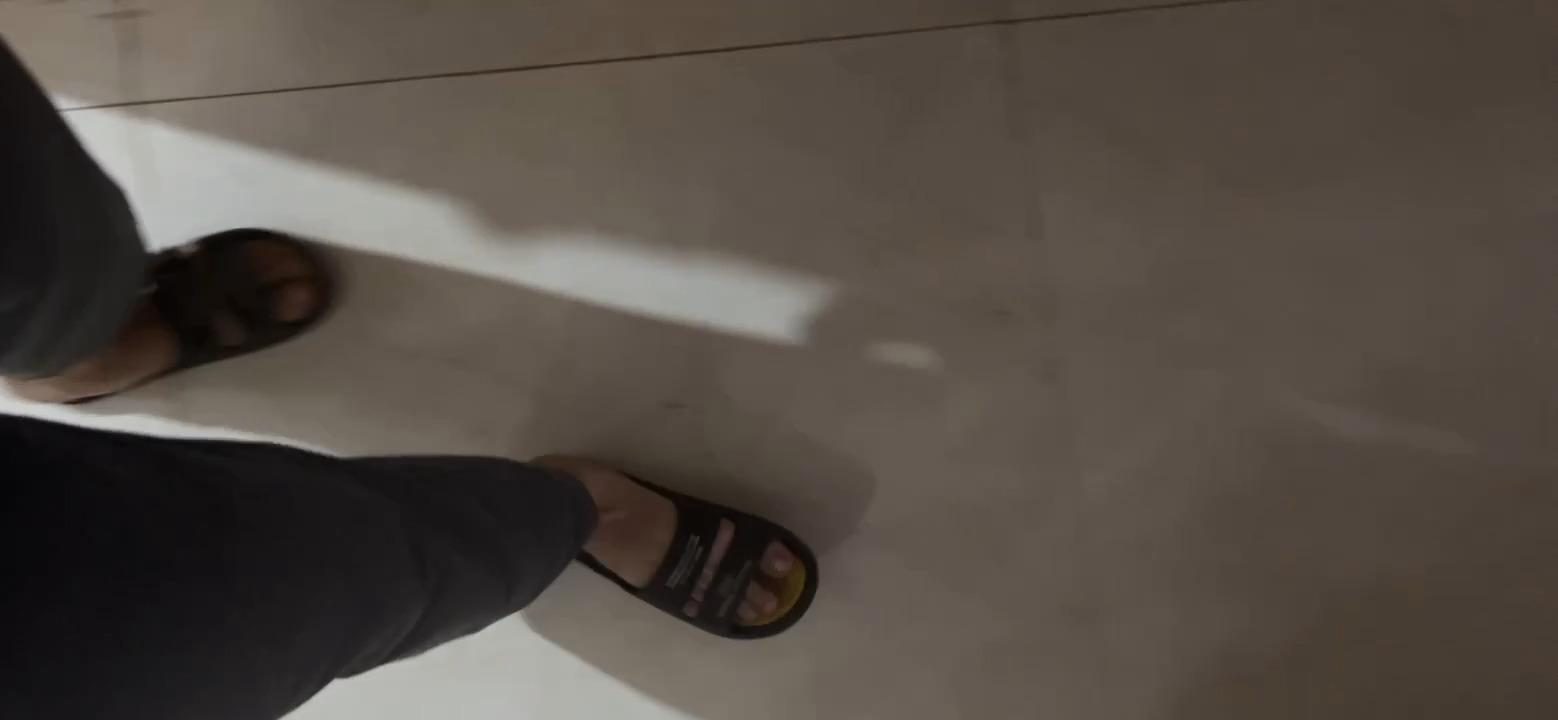no-boot: (525, 433, 835, 638), (15, 193, 347, 370)
